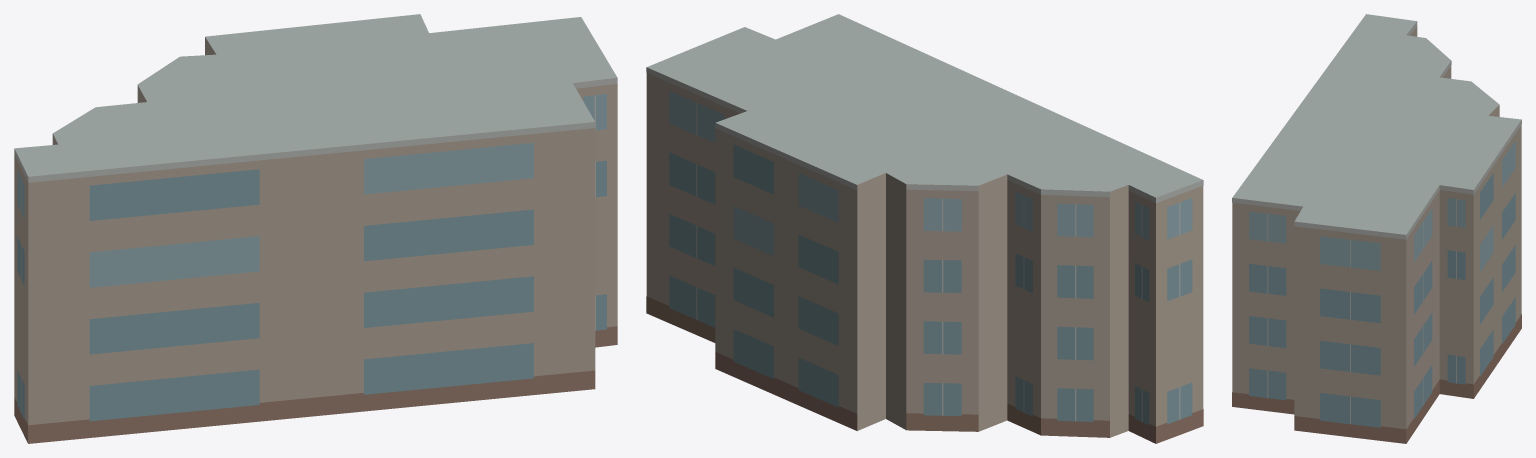
The model's file is survey-upis-32505233.glb.
3 renders of one model, left to right at view 1: azimuth 30°, elevation 25°; view 2: azimuth 150°, elevation 25°; view 3: azimuth 270°, elevation 25°, orthographic. The views are drawn at different scales.
Parts seen in each view (by area): view 1: survey-upis-32505233.tmp; view 2: survey-upis-32505233.tmp; view 3: survey-upis-32505233.tmp.
Boxes of the visible parts, <box> form: survey-upis-32505233.tmp: <box>14,14,617,443</box>; survey-upis-32505233.tmp: <box>646,14,1203,443</box>; survey-upis-32505233.tmp: <box>1232,14,1521,443</box>.
Bounding box in the file's own units: 24.72 × 10.9 × 13.7.
